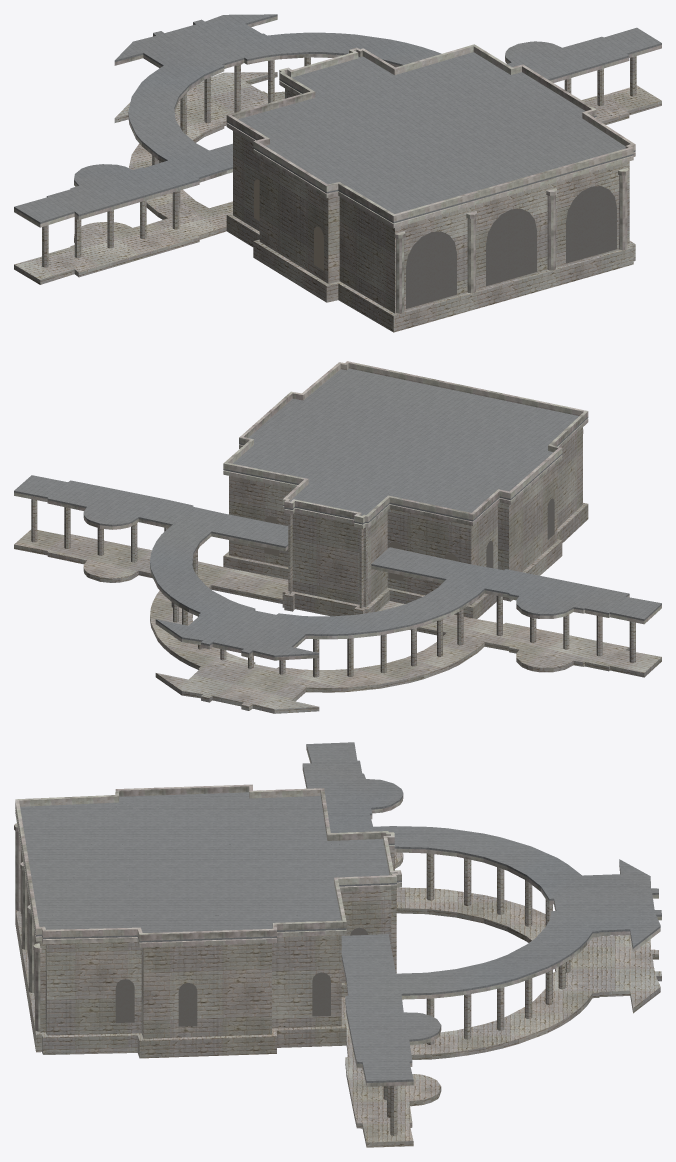
The model's file is palais-galliera.glb.
The picture shows the model from 3 angles, top to bottom: view 1: azimuth 30°, elevation 25°; view 2: azimuth 150°, elevation 25°; view 3: azimuth 270°, elevation 25°; orthographic projection. The views are drawn at different scales.
Visible parts, largest first — view 1: roof, stone, trim, window; view 2: roof, stone, trim, window; view 3: roof, stone, trim, window.
Part boxes in pixels (bbox=[...]): roof: bbox=[14, 14, 661, 223]; stone: bbox=[14, 56, 661, 332]; trim: bbox=[14, 16, 661, 313]; window: bbox=[254, 179, 616, 308]; roof: bbox=[14, 368, 661, 657]; stone: bbox=[14, 427, 661, 713]; trim: bbox=[14, 361, 661, 660]; window: bbox=[264, 498, 554, 581]; roof: bbox=[15, 742, 661, 1082]; stone: bbox=[15, 849, 661, 1147]; trim: bbox=[14, 746, 661, 1086]; window: bbox=[20, 851, 368, 1026].
Size of the model in its own units: 76.38 by 13 by 61.72.
4 materials, 4 textured.
